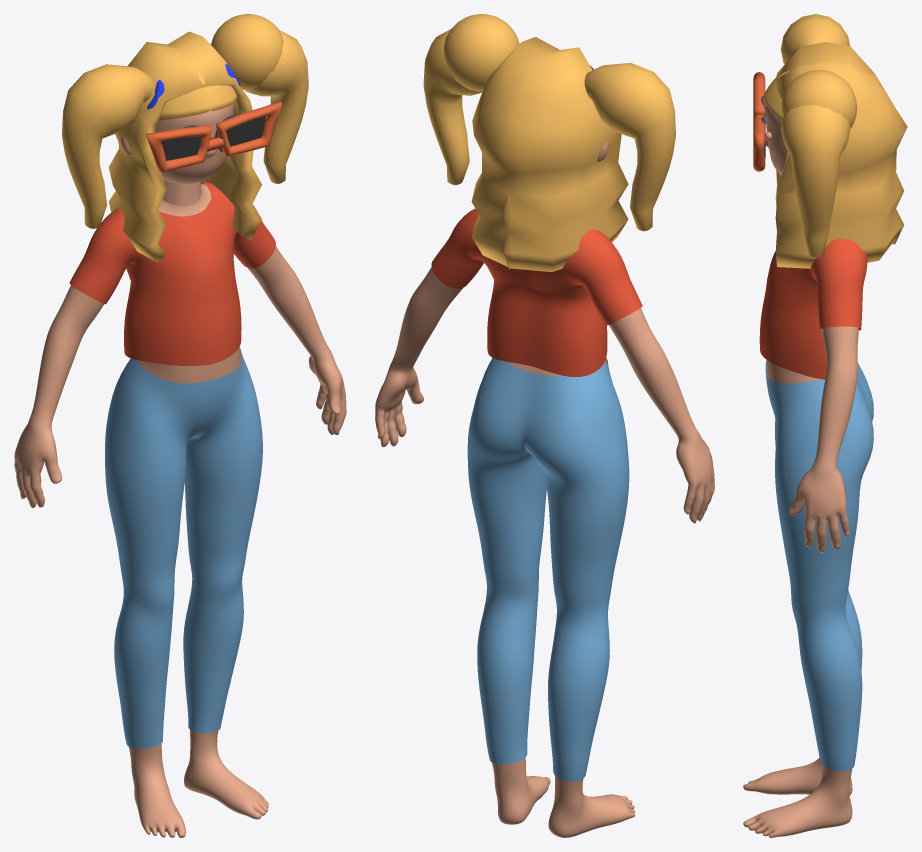
Rendered from avatar.glb.
3 views of the same model, side by side, from view 1: azimuth 30°, elevation 25°; view 2: azimuth 150°, elevation 25°; view 3: azimuth 270°, elevation 25° (orthographic). The views are drawn at different scales.
Parts seen in each view (by area): view 1: Trousers, Skin, Shirt, Hair3, Hair2, Glasses2, Hair1; view 2: Trousers, Hair2, Skin, Shirt, Hair3, Hair1; view 3: Trousers, Skin, Hair2, Shirt, Hair3, Hair1, Glasses2.
Part boxes in pixels (box(x1,y1,x2,y2)): Trousers: box(105, 347, 262, 748); Skin: box(14, 103, 346, 837); Shirt: box(69, 181, 275, 365); Hair3: box(62, 29, 308, 228); Hair2: box(108, 31, 261, 262); Glasses2: box(145, 101, 282, 172); Hair1: box(198, 14, 283, 111); Trousers: box(467, 358, 629, 781); Hair2: box(471, 37, 628, 272); Skin: box(375, 141, 714, 837); Shirt: box(431, 208, 642, 376); Hair3: box(423, 29, 675, 231); Hair1: box(444, 14, 519, 91); Trousers: box(765, 360, 873, 771); Skin: box(743, 105, 858, 837); Hair2: box(775, 42, 907, 268); Shirt: box(759, 238, 867, 379); Hair3: box(763, 14, 850, 257); Hair1: box(763, 70, 857, 127); Glasses2: box(753, 72, 765, 171).
Bounding box in the file's own units: 6.16 × 14.16 × 2.75.
